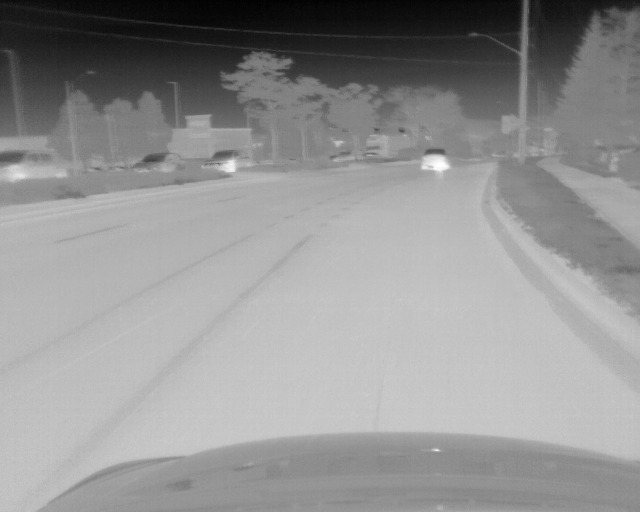car: (1, 148, 69, 182), (364, 134, 409, 160), (201, 150, 248, 174), (133, 152, 184, 172), (421, 149, 448, 171), (338, 148, 353, 161)
